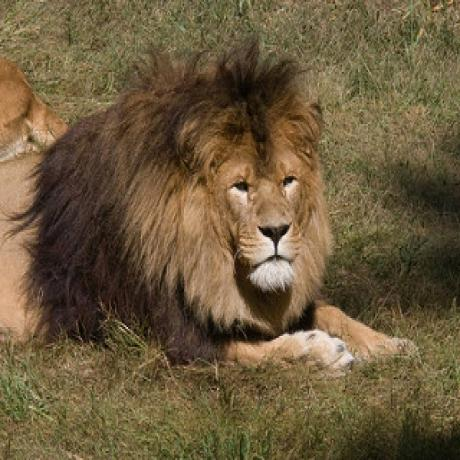Lion: (0, 49, 419, 375)
